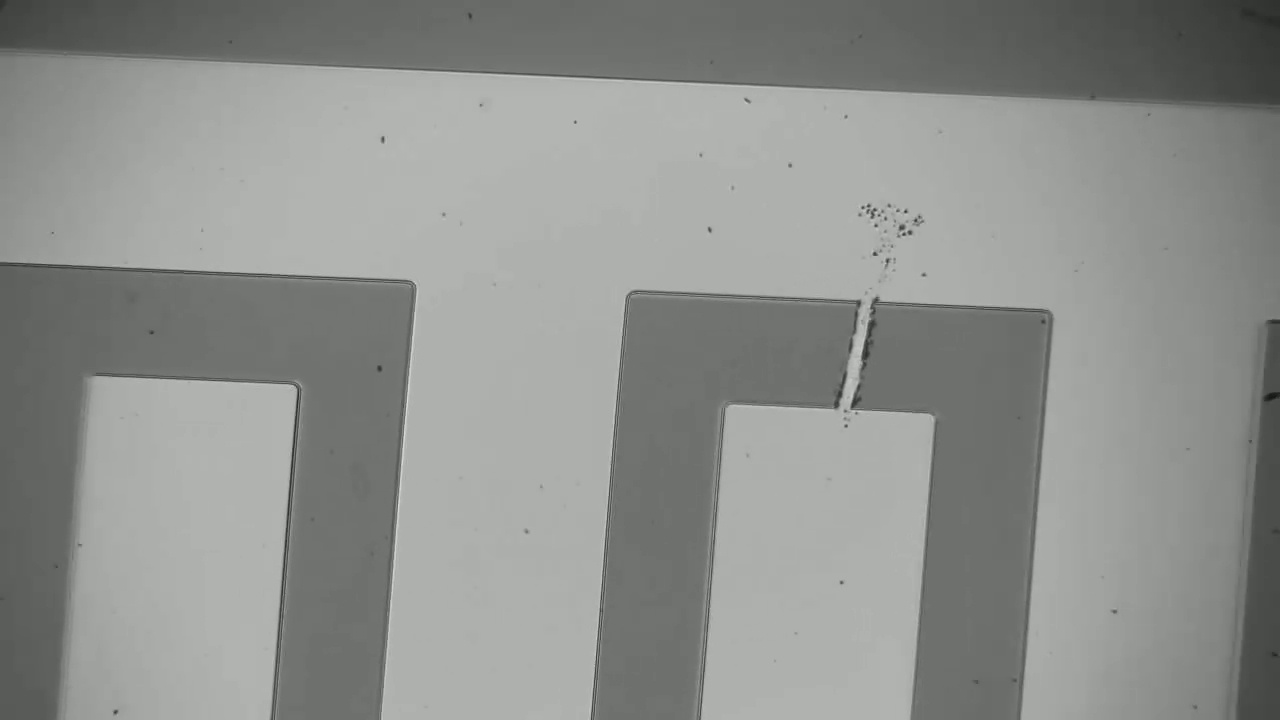Short_circuit: (813, 276, 898, 433)
